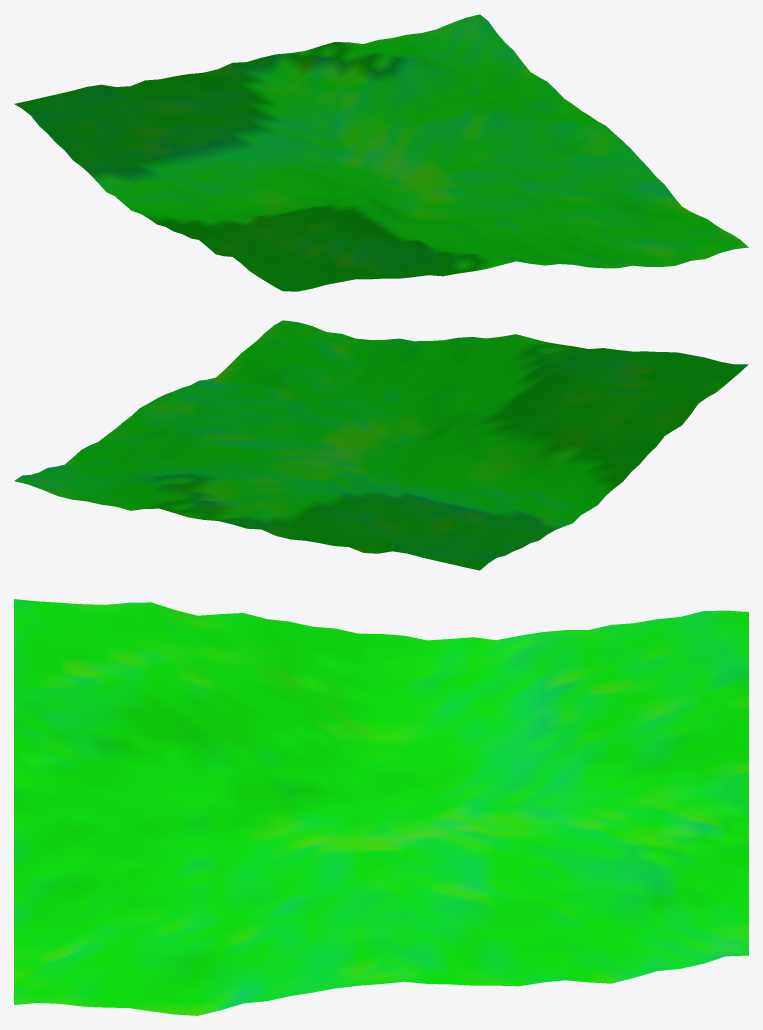
The picture shows the model from 3 angles, top to bottom: view 1: azimuth 30°, elevation 25°; view 2: azimuth 150°, elevation 25°; view 3: azimuth 270°, elevation 25°; orthographic projection. The views are drawn at different scales.
Visible parts, largest first — view 1: Terrain; view 2: Terrain; view 3: Terrain.
Part boxes in pixels (x1=…): Terrain: x1=14, y1=14, x2=748, y2=291; Terrain: x1=14, y1=320, x2=748, y2=570; Terrain: x1=14, y1=599, x2=748, y2=1015.
Size of the model in its own units: 64 by 10.21 by 64.
